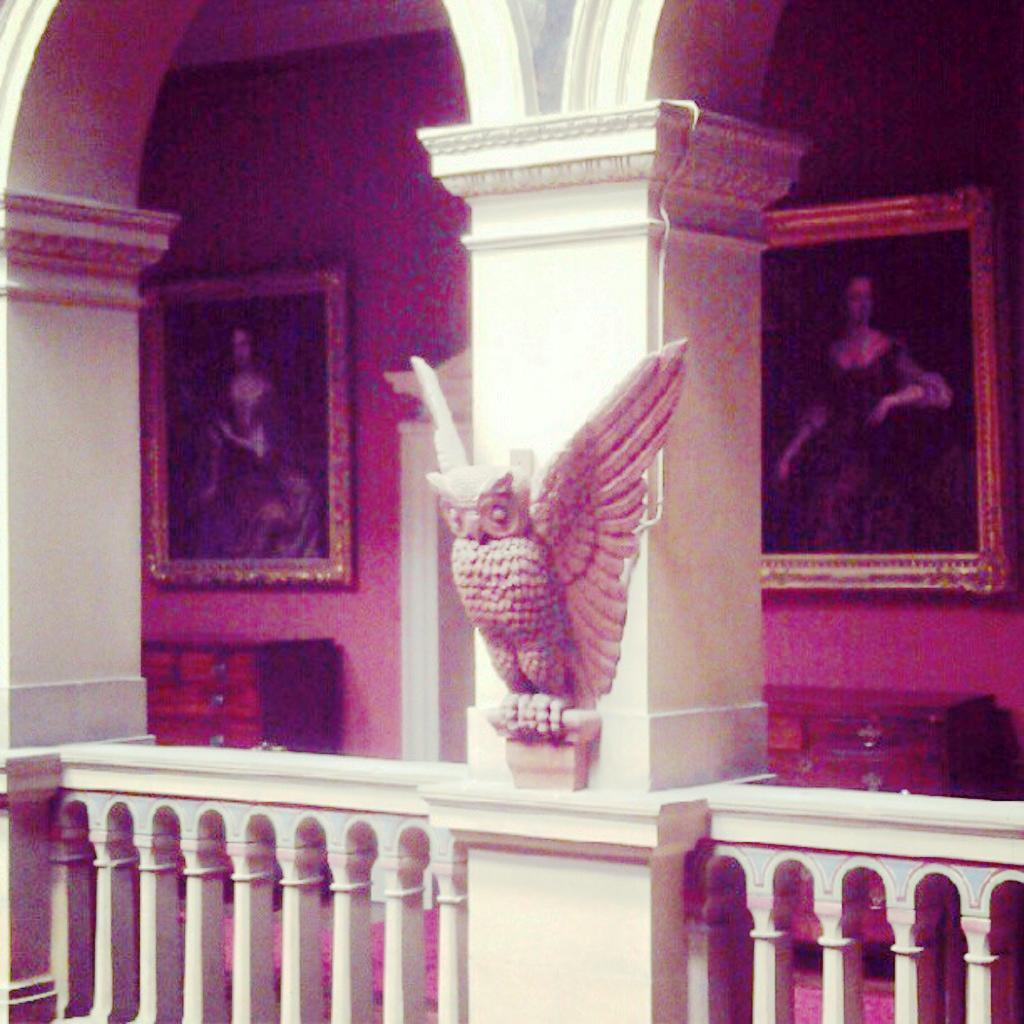Owl: (395, 336, 676, 766)
